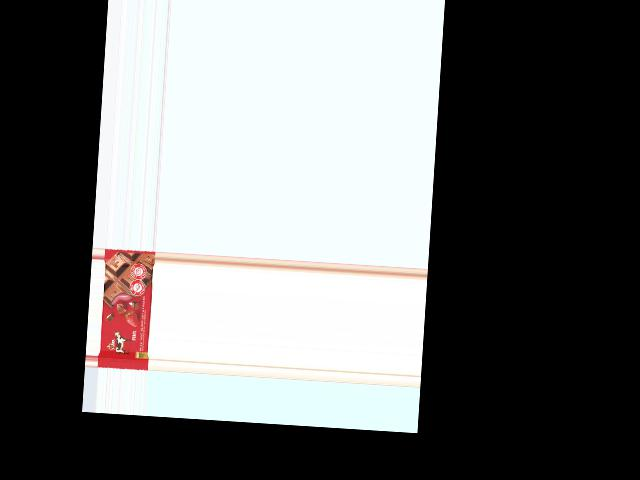chocolate: (97, 248, 155, 371)
